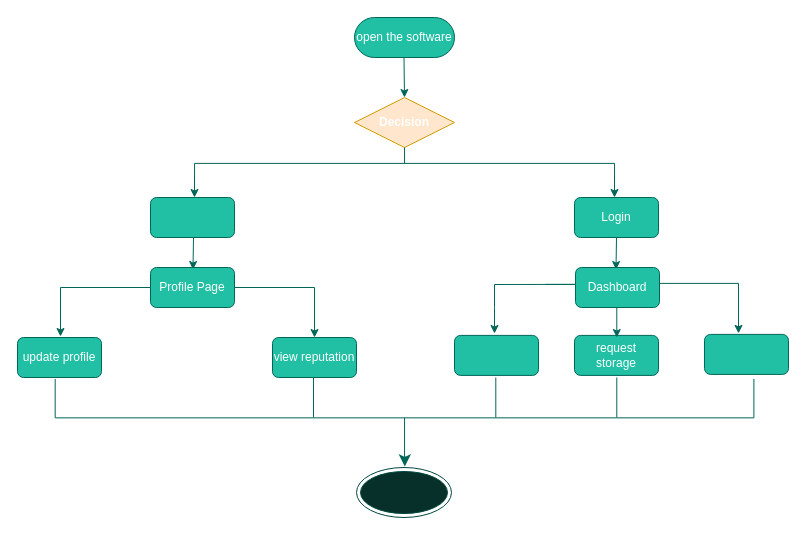
This 806x535 diagram has some shape labels left out. The box of each missing label's shape, as (x1, y1, x2, y2) in pixels:
dashboard statistics: (454, 334, 538, 375)
Registration: (150, 196, 234, 238)
Return: (356, 466, 452, 518)
review publication: (704, 333, 788, 374)
